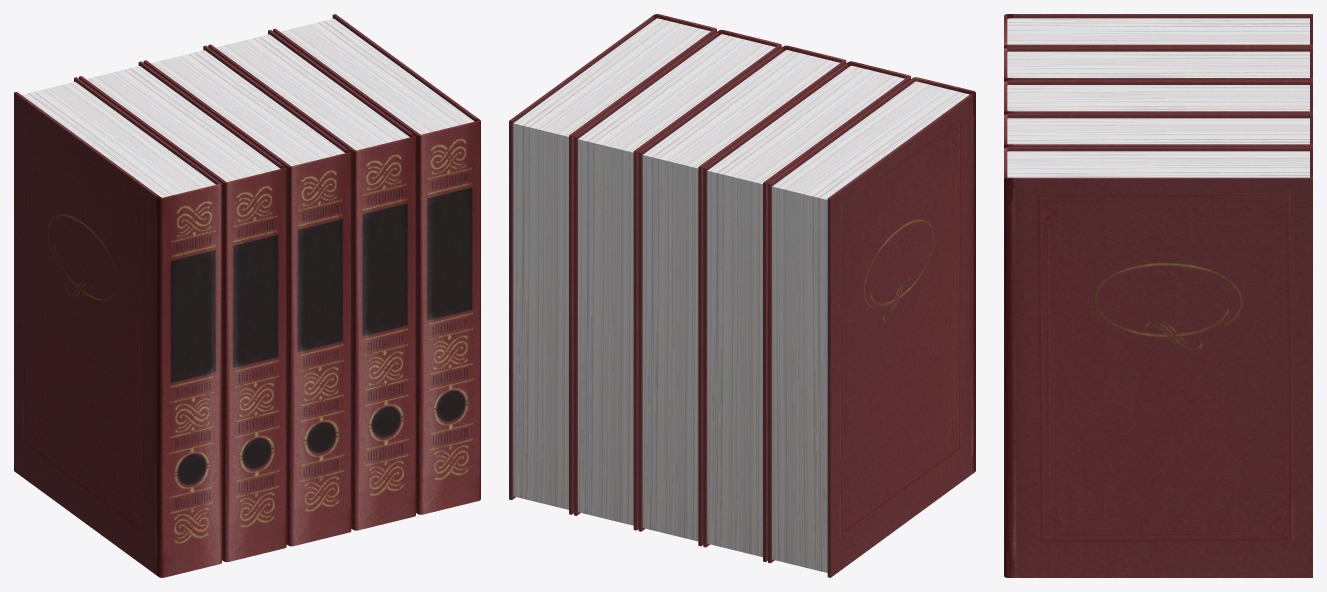
File: RetroBooks01_3_5x.FBX
The picture shows the model from 3 angles, left to right: view 1: azimuth 30°, elevation 25°; view 2: azimuth 150°, elevation 25°; view 3: azimuth 270°, elevation 25°; orthographic projection. The views are drawn at different scales.
Visible parts, largest first — view 1: RetroBooks01_3_5x; view 2: RetroBooks01_3_5x; view 3: RetroBooks01_3_5x.
Boxes of the visible parts, x1,y1,x2,y2 form: RetroBooks01_3_5x: (14,14,480,577); RetroBooks01_3_5x: (509,14,975,577); RetroBooks01_3_5x: (1004,14,1312,577).
Size of the model in its own units: 2.01 by 2.26 by 1.59.
